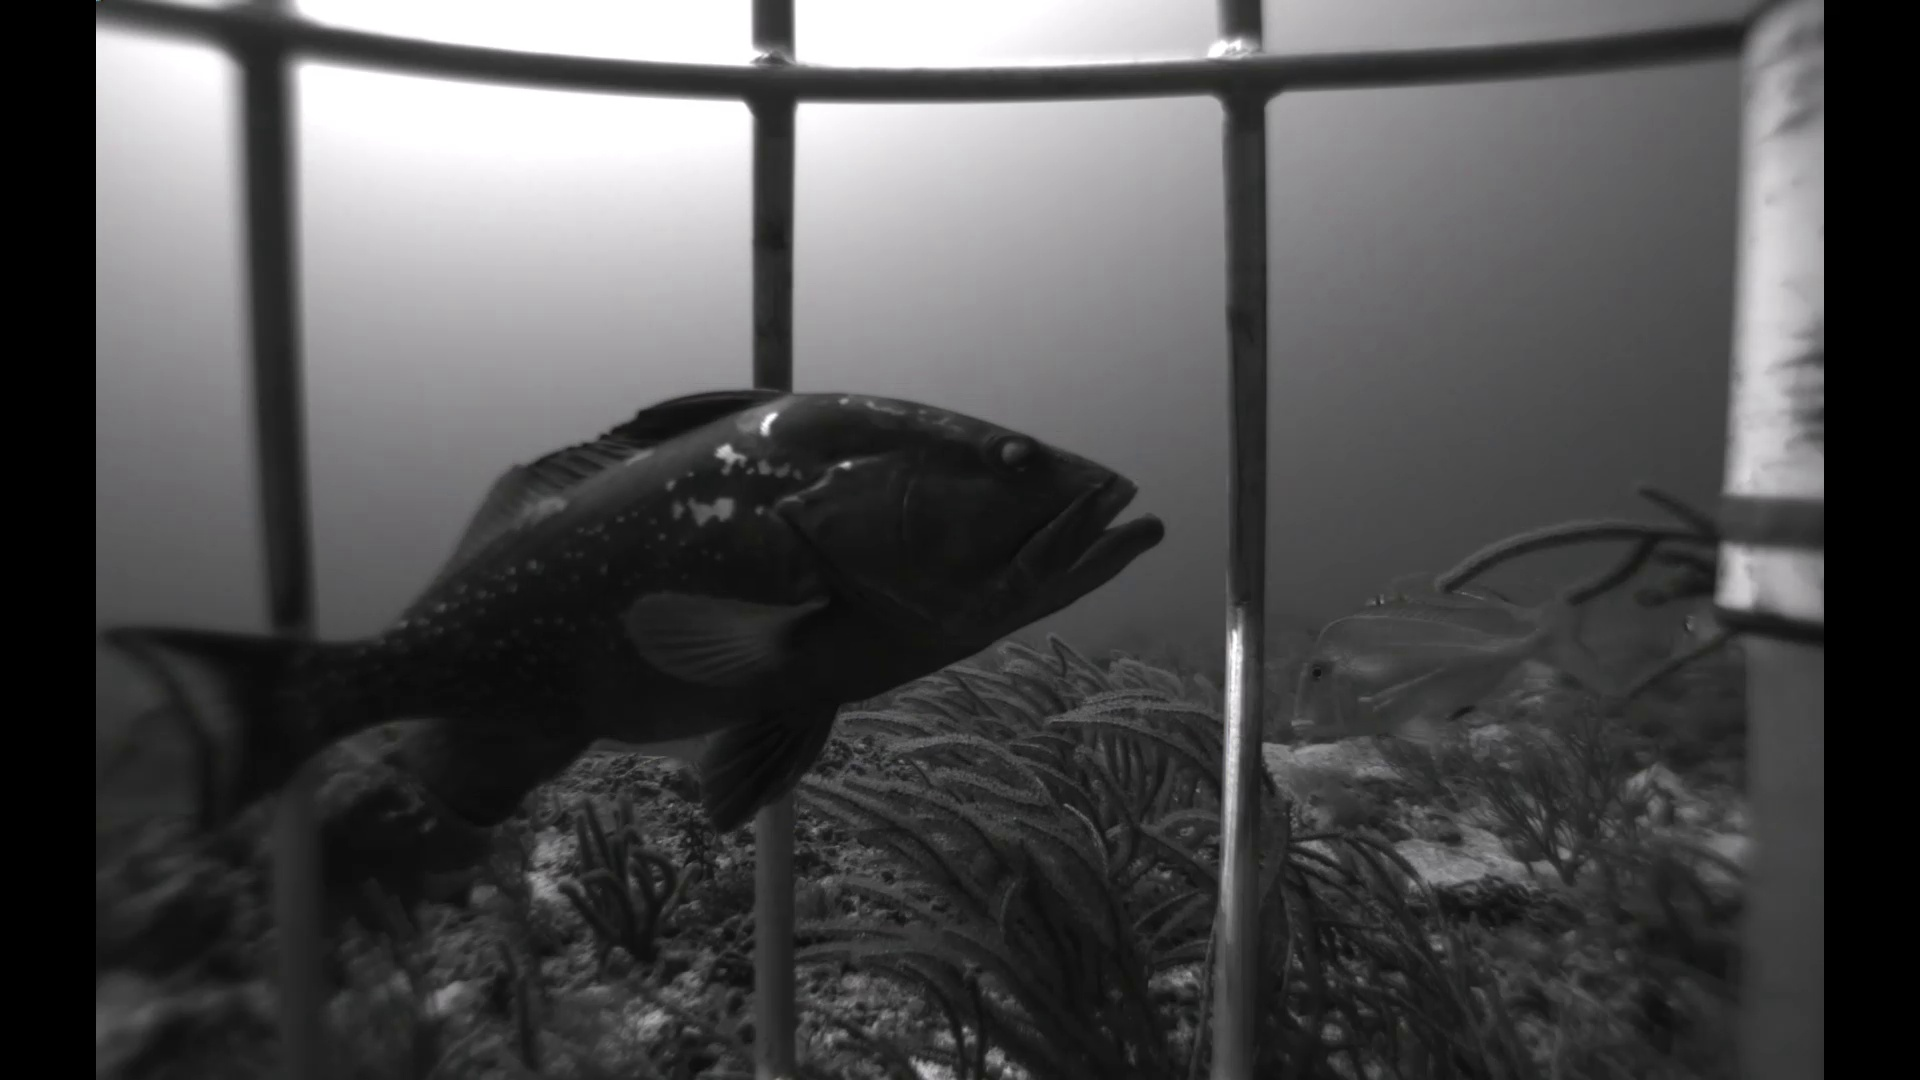CALAMUSNODOSUS-170210608: (1275, 567, 1619, 752)
EPINEPHELUSMORIO-170021211: (117, 342, 1164, 897), (225, 749, 527, 934)
LUTJANUSGRISEUS-170151109: (574, 717, 721, 786)
PAGRUSPAGRUS-170212302: (1362, 566, 1600, 647), (1654, 587, 1746, 691)
POMACANTHUSARCUATUS-170290201: (1444, 696, 1484, 731)
